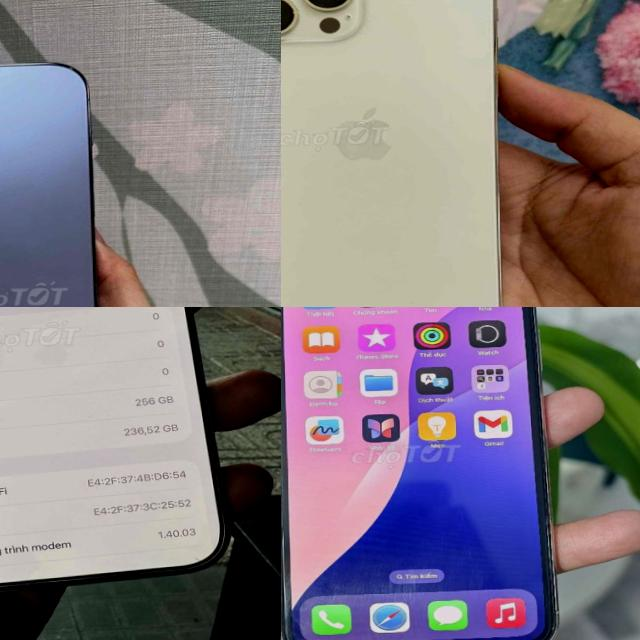gen_11: (281, 307, 578, 640)
gen_12_13: (281, 0, 518, 307), (0, 65, 115, 307)
gen_17: (0, 307, 278, 608)
